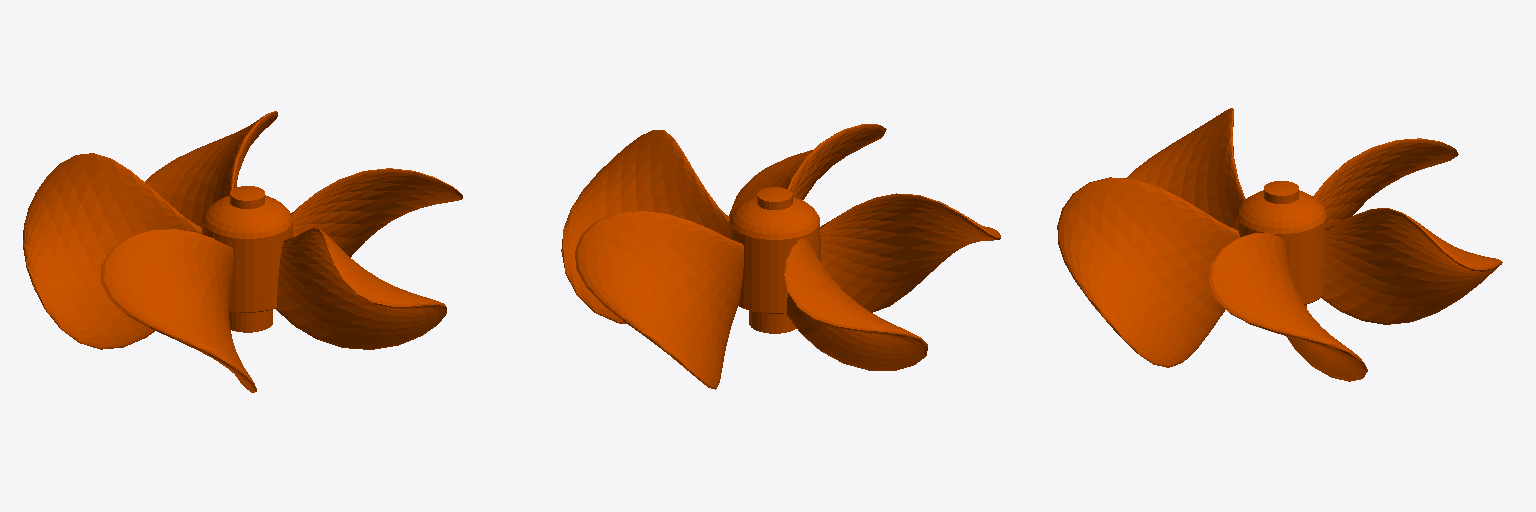
The model's file is PropellerS.obj.
3 views of the same model, side by side, from view 1: azimuth 30°, elevation 25°; view 2: azimuth 150°, elevation 25°; view 3: azimuth 270°, elevation 25° (orthographic).
Visible parts, largest first — view 1: PropBlade_Sphere, PropHub_Sphere.001; view 2: PropBlade_Sphere, PropHub_Sphere.001; view 3: PropBlade_Sphere, PropHub_Sphere.001.
Part boxes in pixels (bbox=[...]): PropBlade_Sphere: bbox=[23, 111, 462, 392]; PropHub_Sphere.001: bbox=[202, 186, 292, 332]; PropBlade_Sphere: bbox=[561, 124, 1000, 389]; PropHub_Sphere.001: bbox=[729, 187, 820, 333]; PropBlade_Sphere: bbox=[1057, 108, 1502, 381]; PropHub_Sphere.001: bbox=[1236, 181, 1326, 308].
Size of the model in its own units: 9.36 by 3.53 by 9.59.